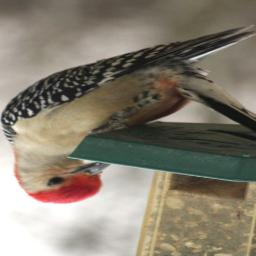Woodpecker: (2, 19, 256, 204)
